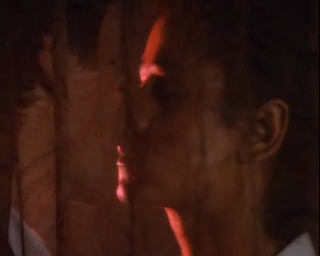cu: (1, 1, 320, 256)
face: (115, 18, 223, 210), (72, 1, 149, 202)
person: (115, 1, 320, 256), (1, 1, 149, 256)
